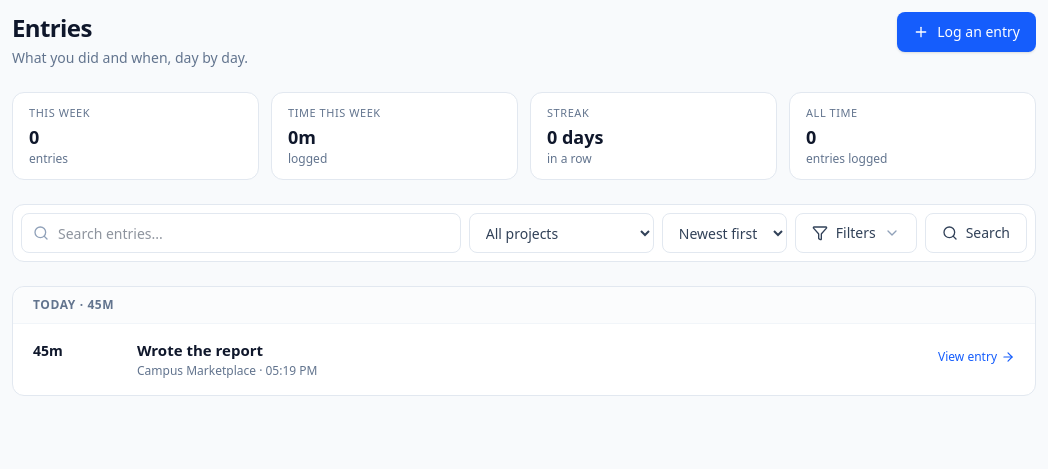
Test: EntriesPage — saved filters › offers to save only once a filter is actually active
The width and height of the screenshot is (1048, 469).
Check: the text "Wrote the report" is shown, box [137,340,263,360]
Check: the button "Save" is not shown
Type "report" into the search field with placeholder "Search entries..." at (241, 233), box [21,213,461,253]
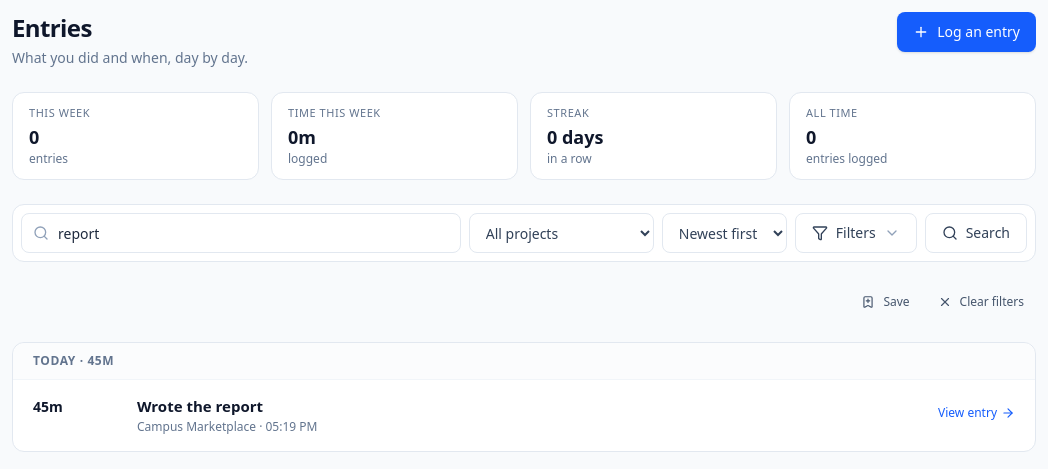
Check: the button "Save" is shown, box [849,286,922,318]
